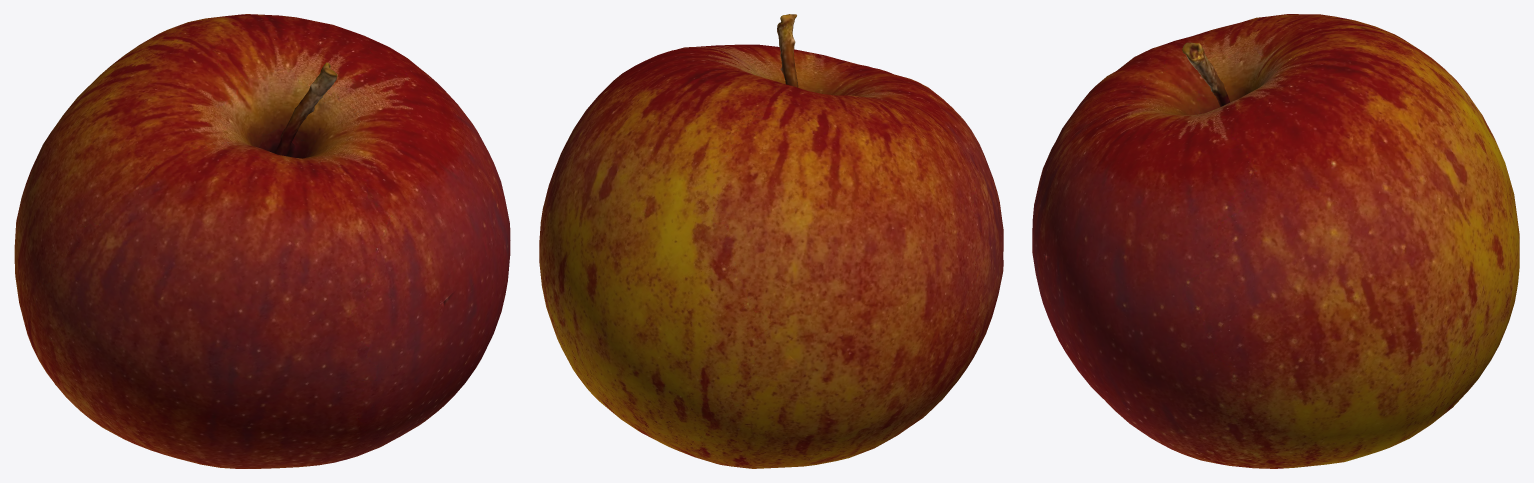
The model's file is apple.gltf.
The picture shows the model from 3 angles, left to right: view 1: azimuth 30°, elevation 25°; view 2: azimuth 150°, elevation 25°; view 3: azimuth 270°, elevation 25°; orthographic projection. The views are drawn at different scales.
Visible parts, largest first — view 1: food_apple_01; view 2: food_apple_01; view 3: food_apple_01.
Boxes of the visible parts, x1=… form: food_apple_01: x1=14, y1=14, x2=510, y2=468; food_apple_01: x1=539, y1=14, x2=1003, y2=468; food_apple_01: x1=1032, y1=14, x2=1519, y2=468.
Size of the model in its own units: 0.0976 by 0.0854 by 0.0959.
Materials: 1 (1 with a texture image).
